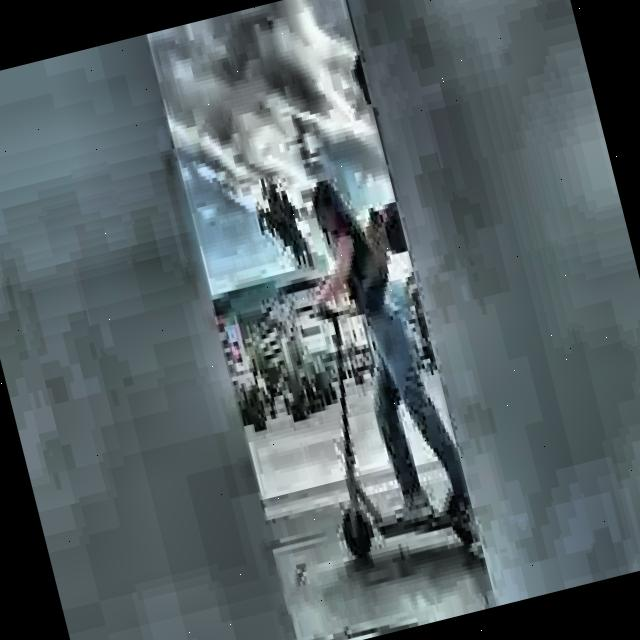alexander the great monument: (248, 168, 351, 396)
